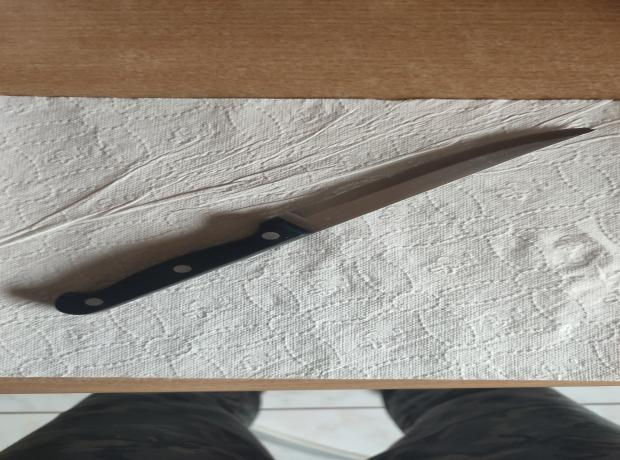metal: (54, 127, 597, 315)
